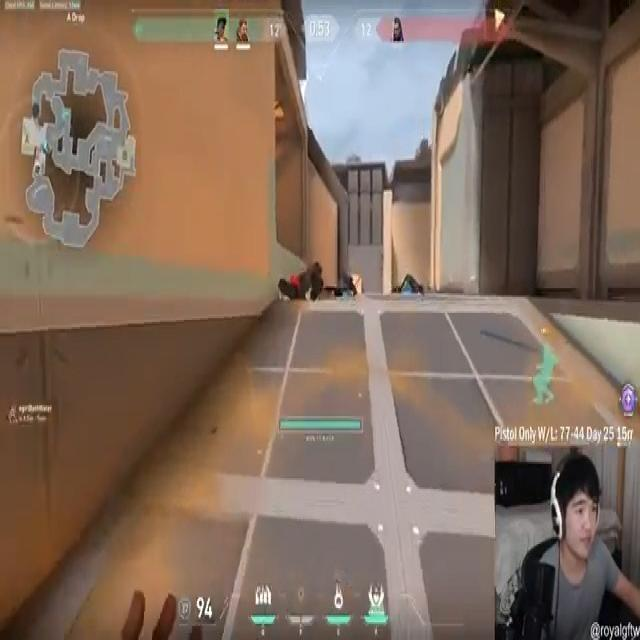ally behind wall: (532, 344, 558, 408)
